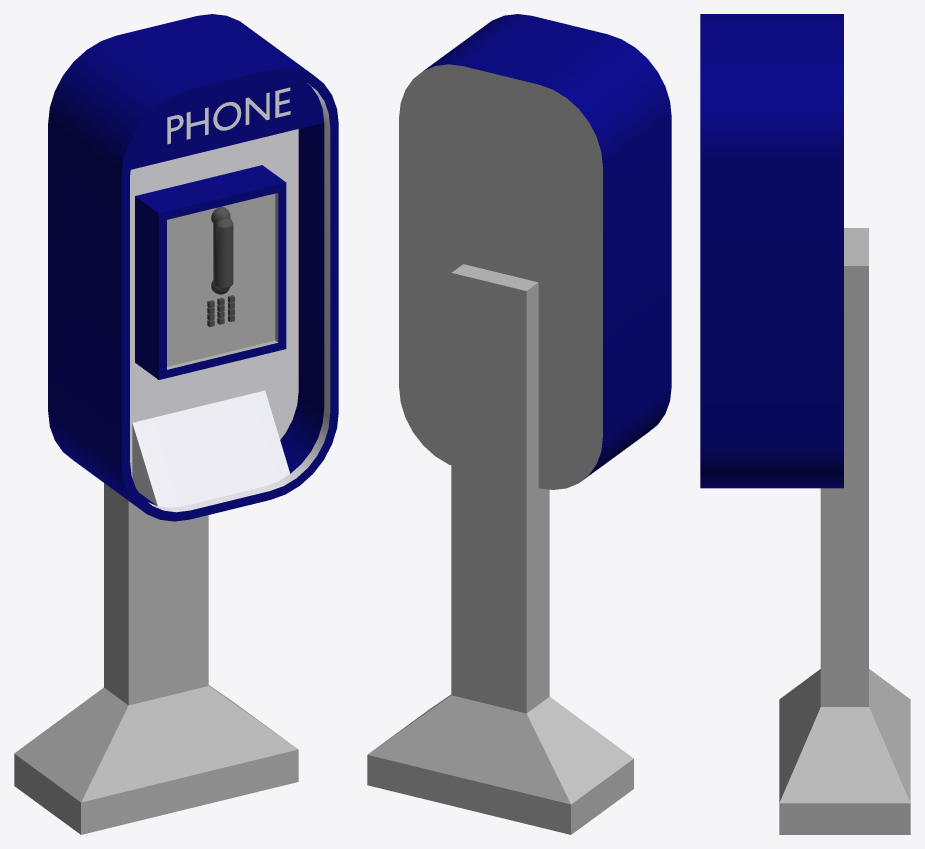
File: phonebox.fbx
The picture shows the model from 3 angles, left to right: view 1: azimuth 30°, elevation 25°; view 2: azimuth 150°, elevation 25°; view 3: azimuth 270°, elevation 25°; orthographic projection. The views are drawn at different scales.
Parts seen in each view (by area): view 1: Cube.001; view 2: Cube.001; view 3: Cube.001.
Boxes of the visible parts, <box> form: Cube.001: <box>14,14,338,834</box>; Cube.001: <box>367,14,671,834</box>; Cube.001: <box>700,14,910,834</box>.
Bounding box in the file's own units: 200 × 667 × 171.
1 material, 1 textured.
